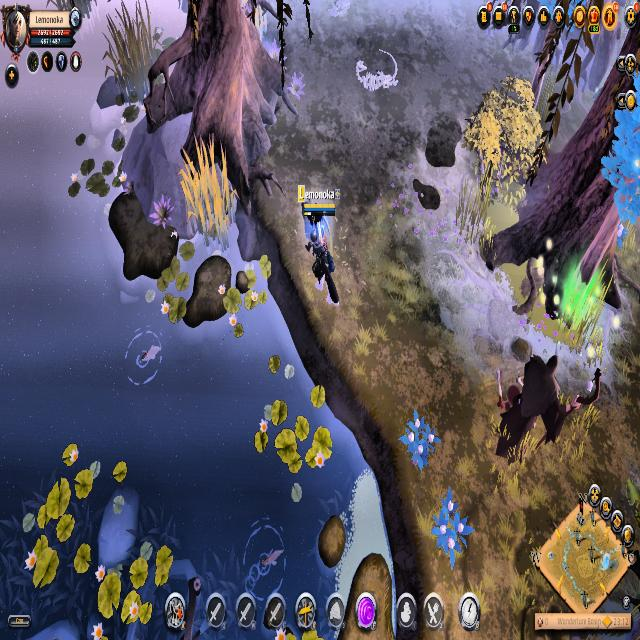fiber tier 4: (429, 485, 477, 574), (396, 411, 443, 473)
fish: (237, 512, 291, 594), (117, 322, 167, 391)
